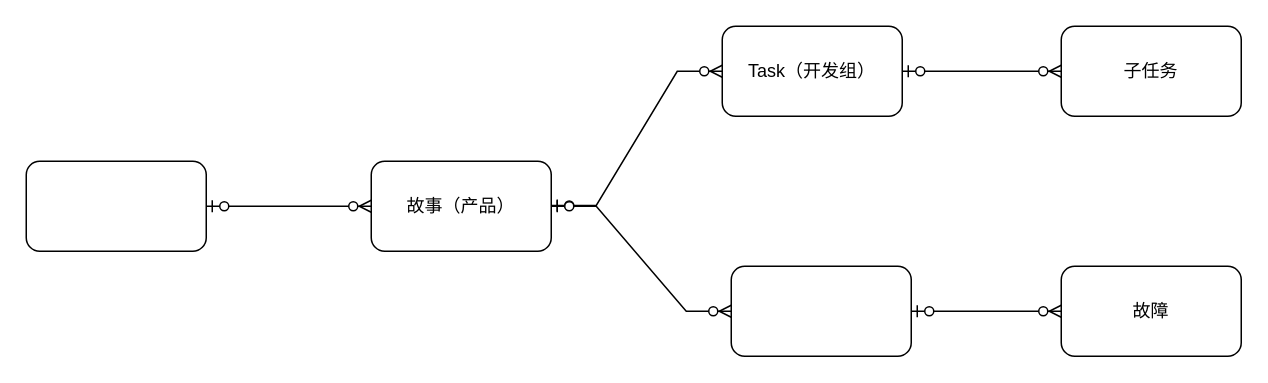
Some shapes in this 1268 by 383 pixel diagram are drawn without their labels. The centre of each missing label's shape, as x and y in pixels:
"Test（测试组）" belongs at point 820,310.
"版本（PMO)" belongs at point 115,205.
